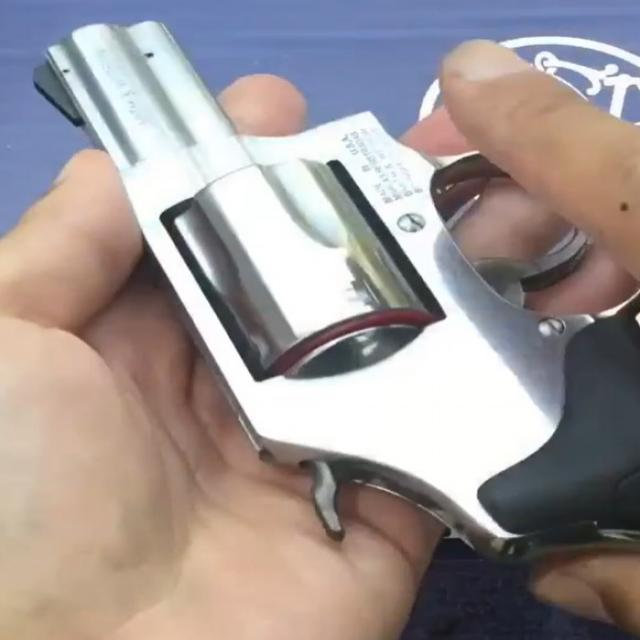revolver: (27, 6, 639, 576)
